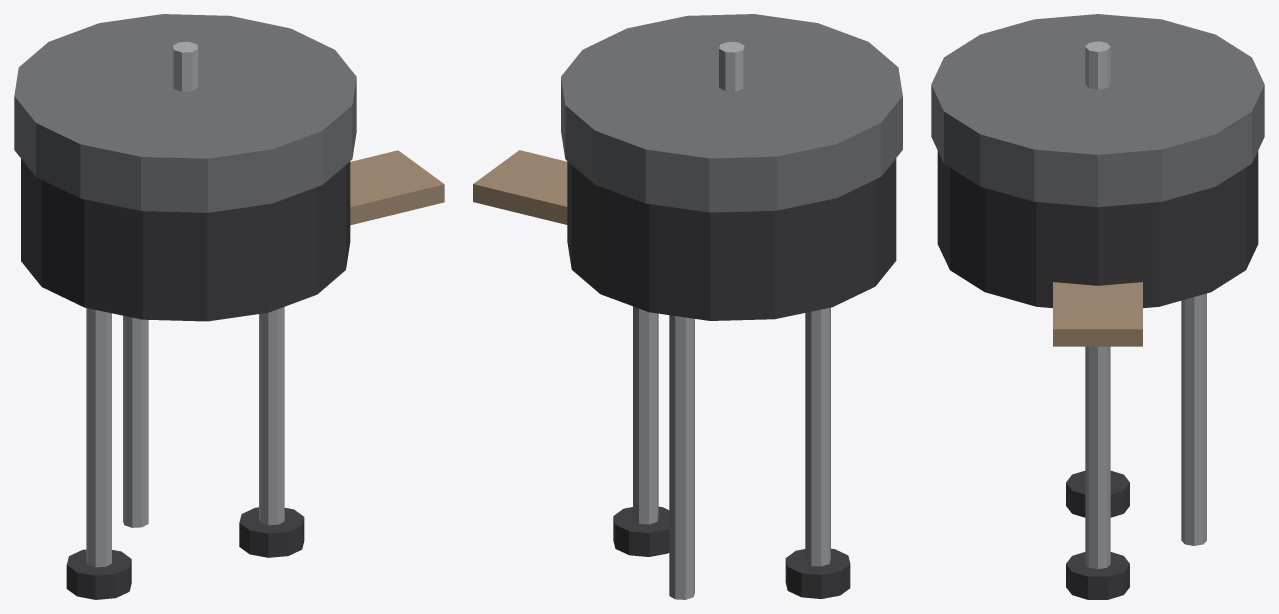
File: eld_churrasqueira.glb
3 renders of one model, left to right at view 1: azimuth 30°, elevation 25°; view 2: azimuth 150°, elevation 25°; view 3: azimuth 270°, elevation 25°, orthographic. The views are drawn at different scales.
Visible parts, largest first — view 1: ELD_CHURRASQUEIRA_v01; view 2: ELD_CHURRASQUEIRA_v01; view 3: ELD_CHURRASQUEIRA_v01.
Part boxes in pixels (bbox=[...]): ELD_CHURRASQUEIRA_v01: bbox=[14, 14, 444, 599]; ELD_CHURRASQUEIRA_v01: bbox=[473, 14, 902, 599]; ELD_CHURRASQUEIRA_v01: bbox=[931, 14, 1264, 599].
Bounding box in the file's own units: 0.67 × 0.86 × 0.52.
